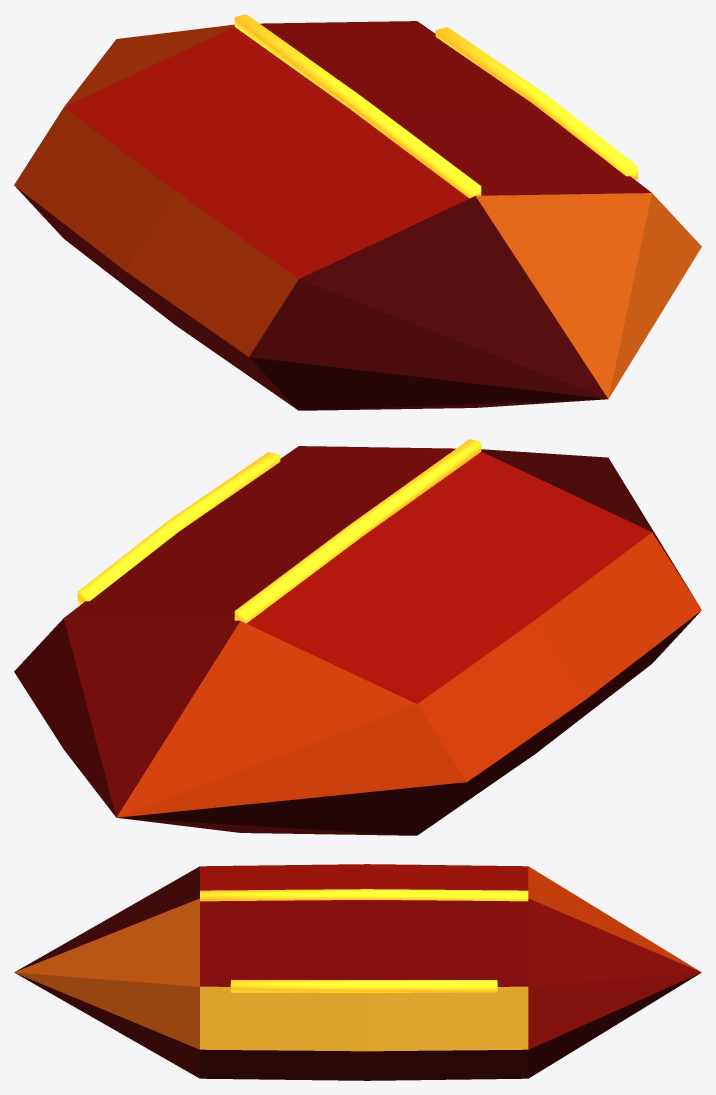
File: tyrian10-39.glb
The picture shows the model from 3 angles, top to bottom: view 1: azimuth 30°, elevation 25°; view 2: azimuth 150°, elevation 25°; view 3: azimuth 270°, elevation 25°; orthographic projection. The views are drawn at different scales.
Visible parts, largest first — view 1: tyrian10-39, tyrian10-39_glints; view 2: tyrian10-39, tyrian10-39_glints; view 3: tyrian10-39, tyrian10-39_glints.
Boxes of the visible parts, x1,y1,x2,y2 form: tyrian10-39: [14, 21, 701, 410]; tyrian10-39_glints: [234, 14, 638, 198]; tyrian10-39: [14, 446, 701, 835]; tyrian10-39_glints: [77, 439, 481, 623]; tyrian10-39: [14, 864, 701, 1080]; tyrian10-39_glints: [200, 889, 528, 992].
Size of the model in its own units: 1 by 0.4658 by 1.85.
